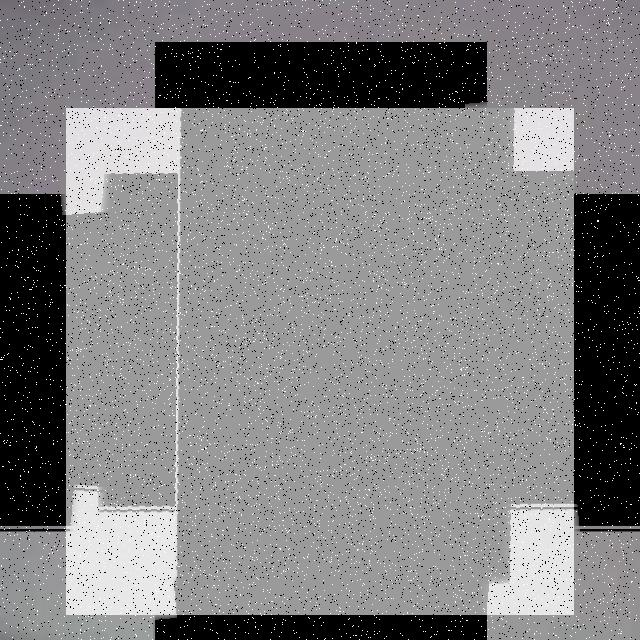dua ribu rupiah: (66, 108, 574, 615)
